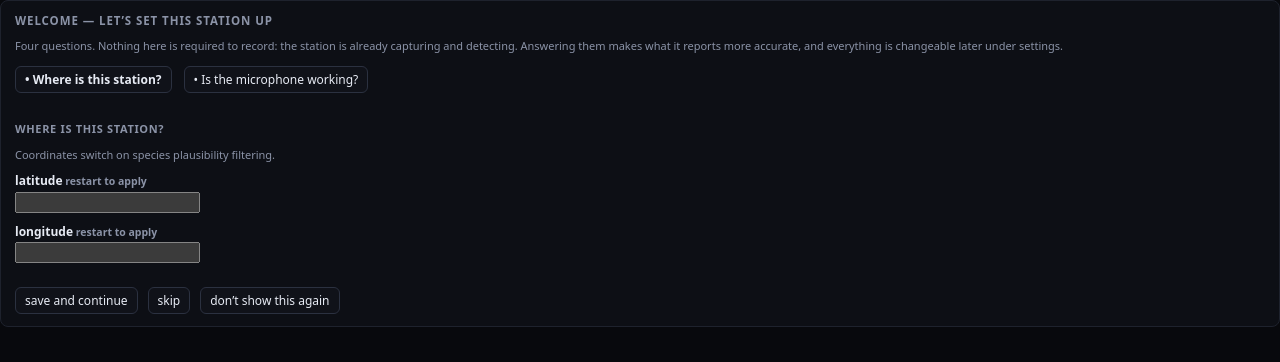
Test: FirstRun › shows the API’s own message when a value is rejected
The width and height of the screenshot is (1280, 362).
Type "51.4769" into the number field labelled "latitude restart to apply".
click(108, 202); type("51.4769")  # box [15,192,200,213]
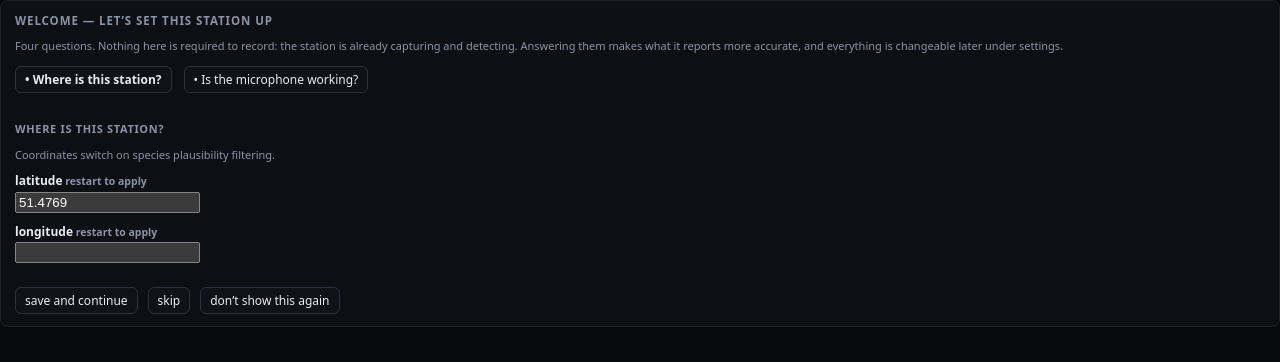
Click the button "save and continue".
click(76, 301)  # box [15,287,138,314]
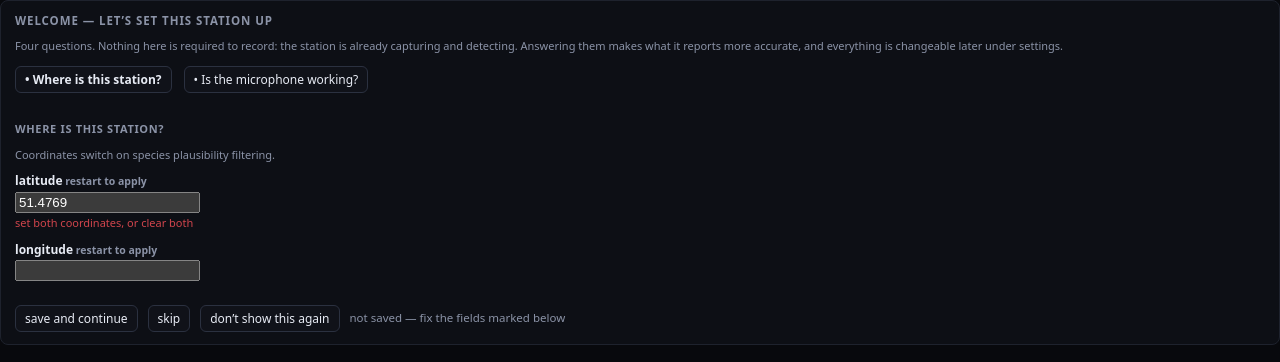
Expected: the text "set both coordinates, or clear both" is shown, [15,215,193,230]
